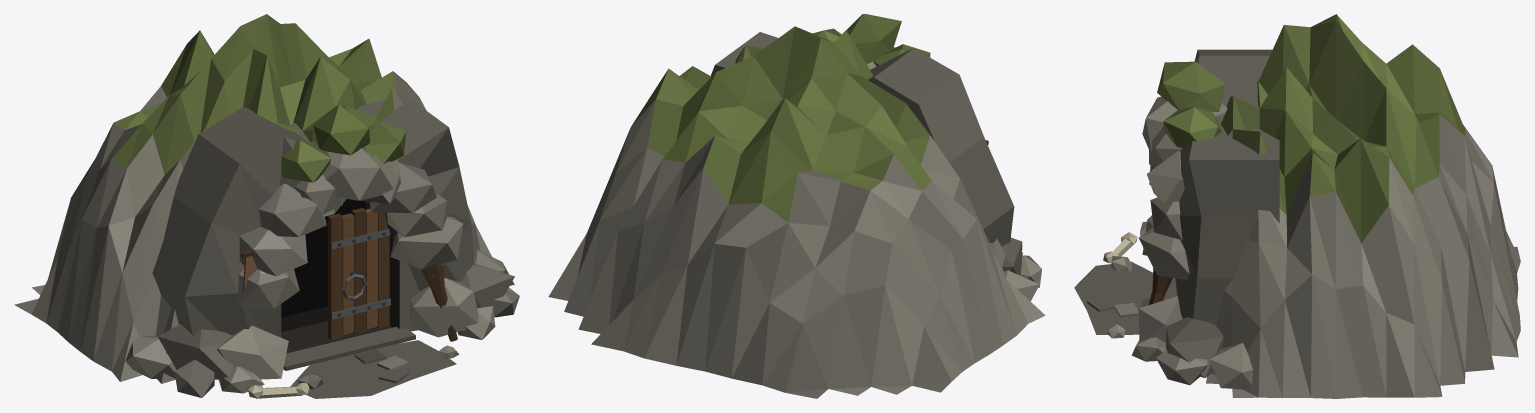
Rendered from giants_cavern.glb.
The picture shows the model from 3 angles, left to right: view 1: azimuth 30°, elevation 25°; view 2: azimuth 150°, elevation 25°; view 3: azimuth 270°, elevation 25°; orthographic projection.
Visible parts, largest first — view 1: giants_cavern; view 2: giants_cavern; view 3: giants_cavern.
Boxes of the visible parts, x1,y1,x2,y2 form: giants_cavern: (14,14,519,398); giants_cavern: (548,14,1045,398); giants_cavern: (1074,14,1520,398).
Bounding box in the file's own units: 20.21 × 13.61 × 19.61.
